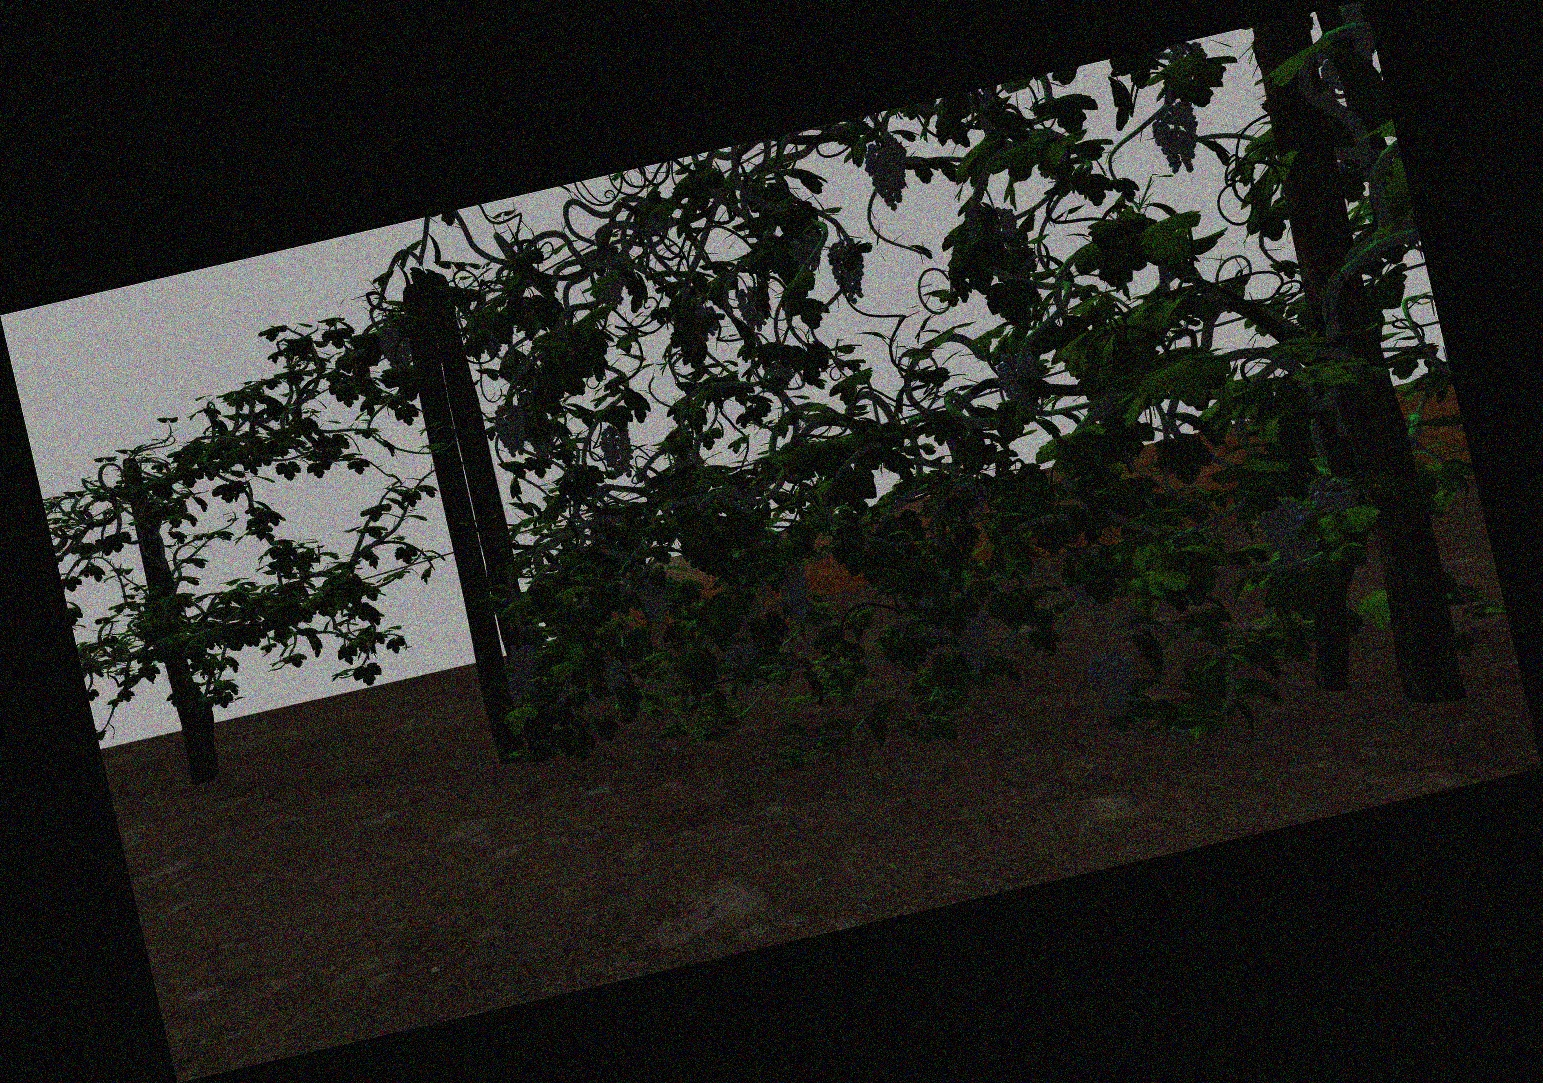grape: (1260, 499, 1319, 574), (1154, 102, 1203, 173), (1090, 646, 1137, 718), (866, 139, 909, 212), (1000, 348, 1040, 418), (831, 238, 869, 306), (956, 613, 994, 674), (1309, 471, 1360, 516), (495, 400, 528, 458), (781, 564, 811, 625), (737, 282, 771, 333), (638, 575, 672, 625), (601, 424, 632, 477), (594, 268, 628, 313), (723, 626, 757, 670), (379, 323, 412, 368), (793, 229, 824, 273), (601, 652, 628, 693), (509, 645, 539, 680), (508, 677, 538, 706)
